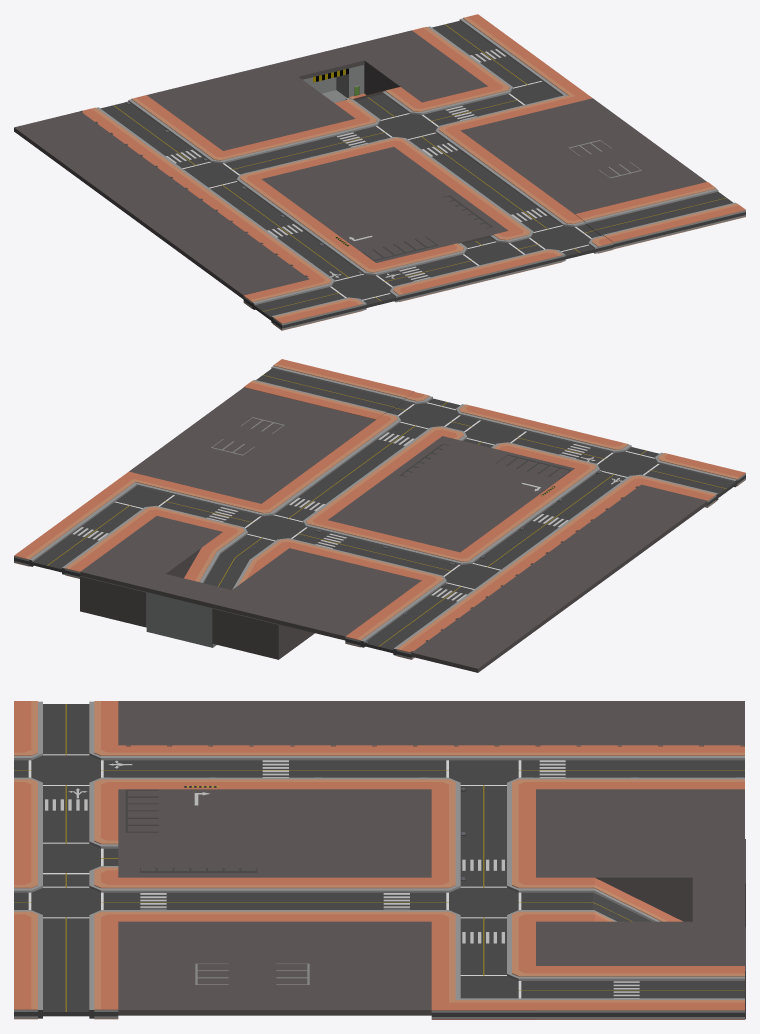
File: Ground.fbx
3 renders of one model, top to bottom at view 1: azimuth 30°, elevation 25°; view 2: azimuth 150°, elevation 25°; view 3: azimuth 270°, elevation 25°, orthographic. The views are drawn at different scales.
Visible parts, largest first — view 1: Cube.100; view 2: Cube.100; view 3: Cube.100.
Part boxes in pixels (x1,y1,x2,y2): Cube.100: (14,14,745,330); Cube.100: (14,359,745,672); Cube.100: (14,701,745,1019).
Size of the model in its own units: 86.52 by 86.66 by 7.93.
